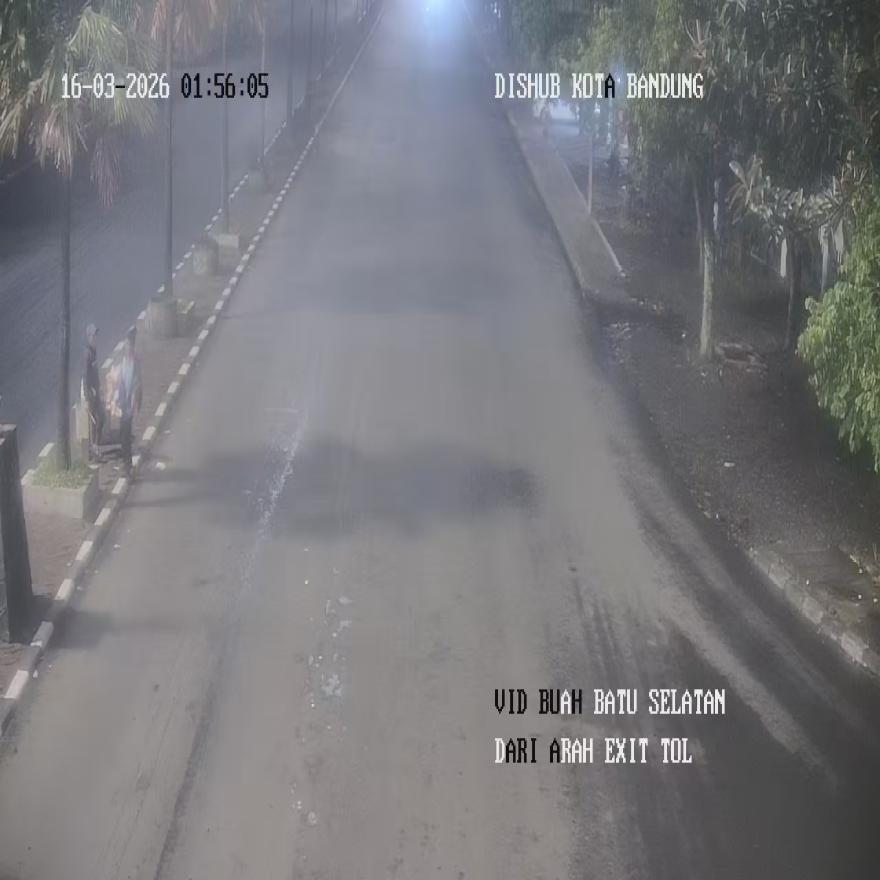Mobil: (114, 328, 141, 473), (82, 323, 104, 458)
